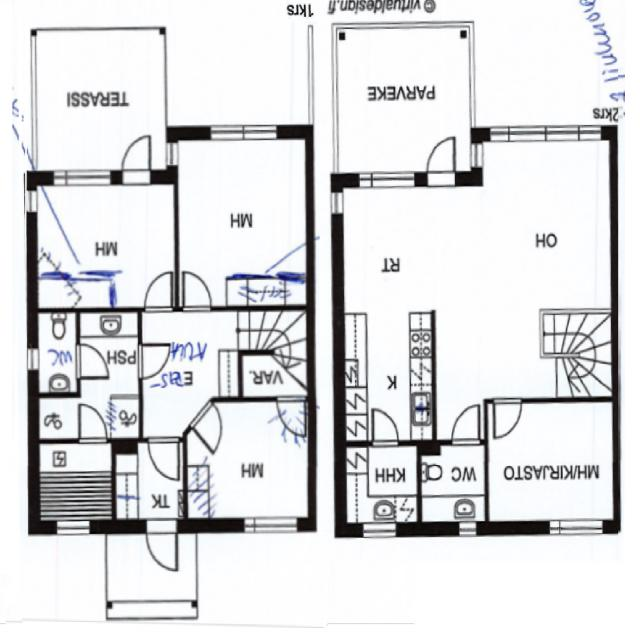door: (190, 399, 231, 452), (146, 520, 176, 570), (122, 137, 150, 184), (428, 140, 455, 188), (148, 438, 178, 481), (75, 344, 107, 379), (144, 272, 172, 311), (138, 344, 169, 378), (183, 272, 210, 311), (452, 406, 478, 445), (80, 406, 106, 444), (494, 396, 520, 434), (372, 409, 398, 445)
